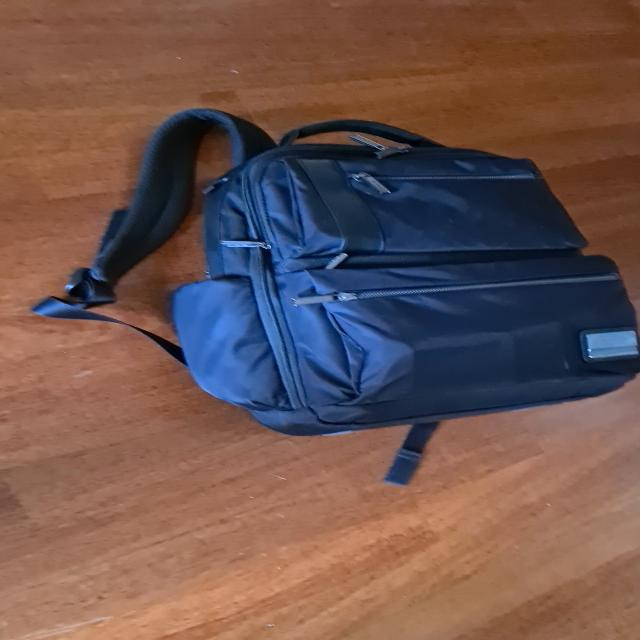backpack: (163, 107, 640, 444)
